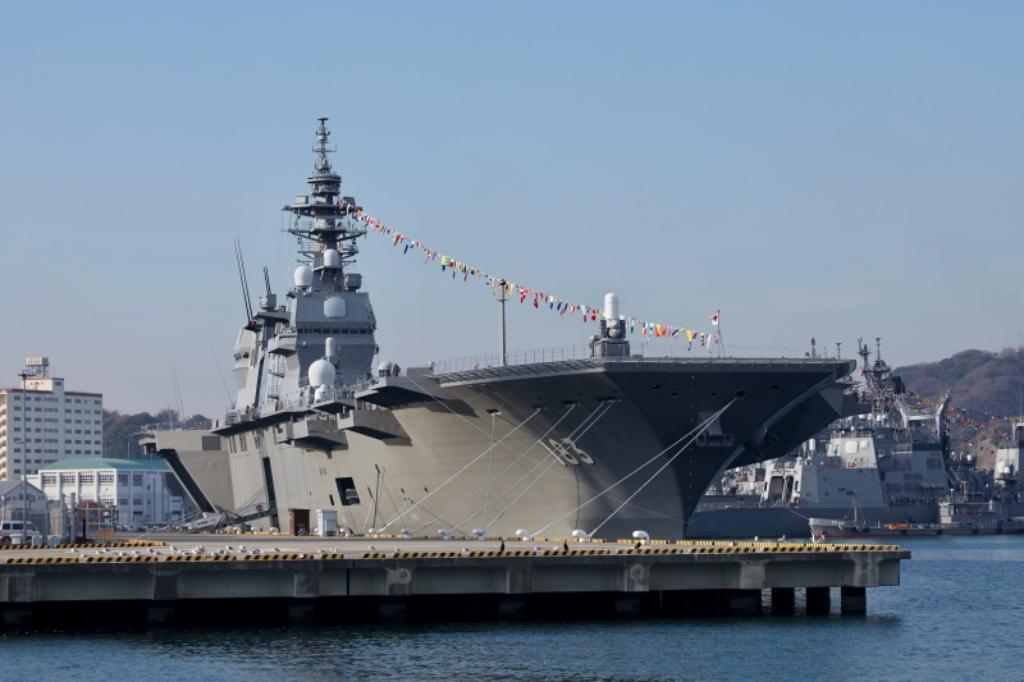Warship: (140, 113, 876, 558)
